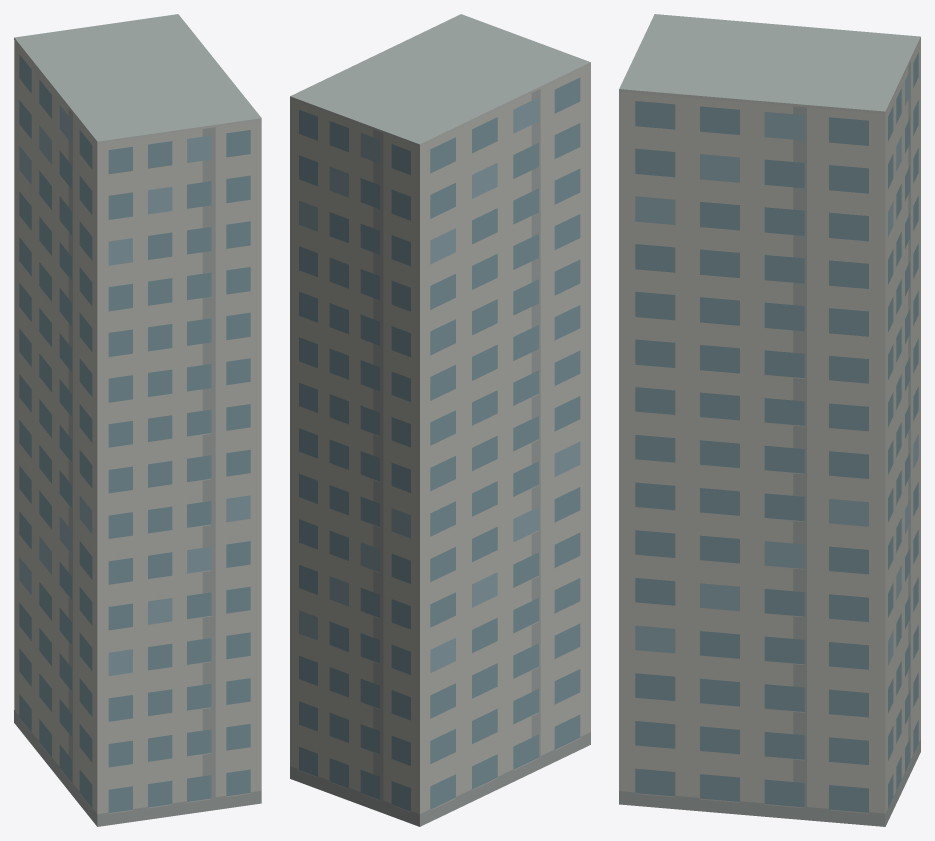
Rendered from residential-1ac42eb7-14c1-4247-b40a-06e900ccb1f6.glb.
3 views of the same model, side by side, from view 1: azimuth 30°, elevation 25°; view 2: azimuth 150°, elevation 25°; view 3: azimuth 270°, elevation 25° (orthographic). The views are drawn at different scales.
Parts seen in each view (by area): view 1: residential-1ac42eb7-14c1-4247-b40a-06e900ccb1f6.tmp; view 2: residential-1ac42eb7-14c1-4247-b40a-06e900ccb1f6.tmp; view 3: residential-1ac42eb7-14c1-4247-b40a-06e900ccb1f6.tmp.
Boxes of the visible parts, x1,y1,x2,y2 form: residential-1ac42eb7-14c1-4247-b40a-06e900ccb1f6.tmp: [14, 14, 261, 826]; residential-1ac42eb7-14c1-4247-b40a-06e900ccb1f6.tmp: [290, 14, 590, 826]; residential-1ac42eb7-14c1-4247-b40a-06e900ccb1f6.tmp: [619, 14, 920, 826].
Bounding box in the file's own units: 19.6 × 67 × 25.63.
